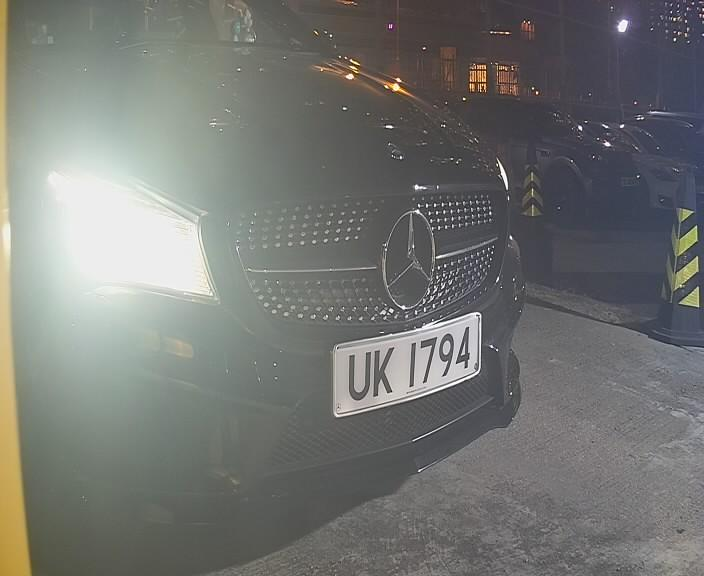License Plate: (334, 309, 488, 417)
